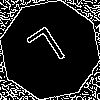L: (25, 25, 73, 79)
